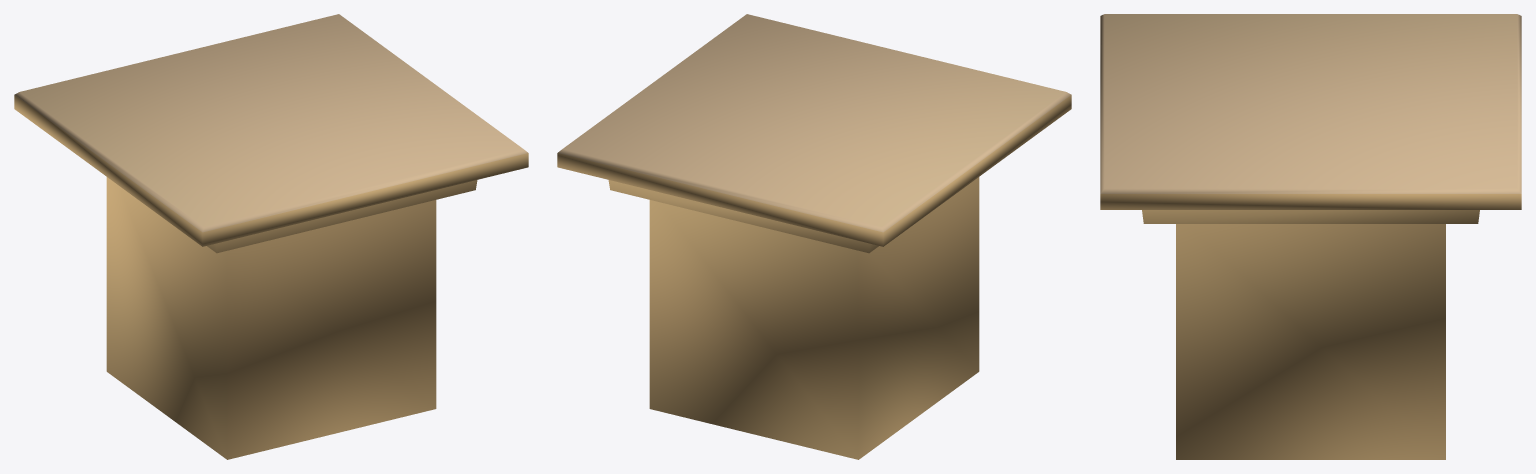
Rendered from table.fbx.
The picture shows the model from 3 angles, left to right: view 1: azimuth 30°, elevation 25°; view 2: azimuth 150°, elevation 25°; view 3: azimuth 270°, elevation 25°; orthographic projection. The views are drawn at different scales.
Parts seen in each view (by area): view 1: Cube.001; view 2: Cube.001; view 3: Cube.001.
Boxes of the visible parts, x1=… form: Cube.001: x1=14, y1=14, x2=528, y2=459; Cube.001: x1=557, y1=14, x2=1071, y2=459; Cube.001: x1=1100, y1=14, x2=1521, y2=459.
Size of the model in its own units: 3.12 by 2.46 by 3.12.
